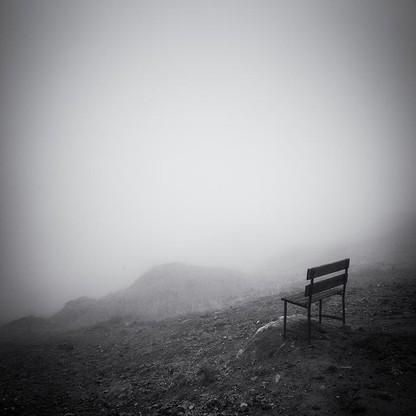obstacle: (278, 253, 359, 338)
